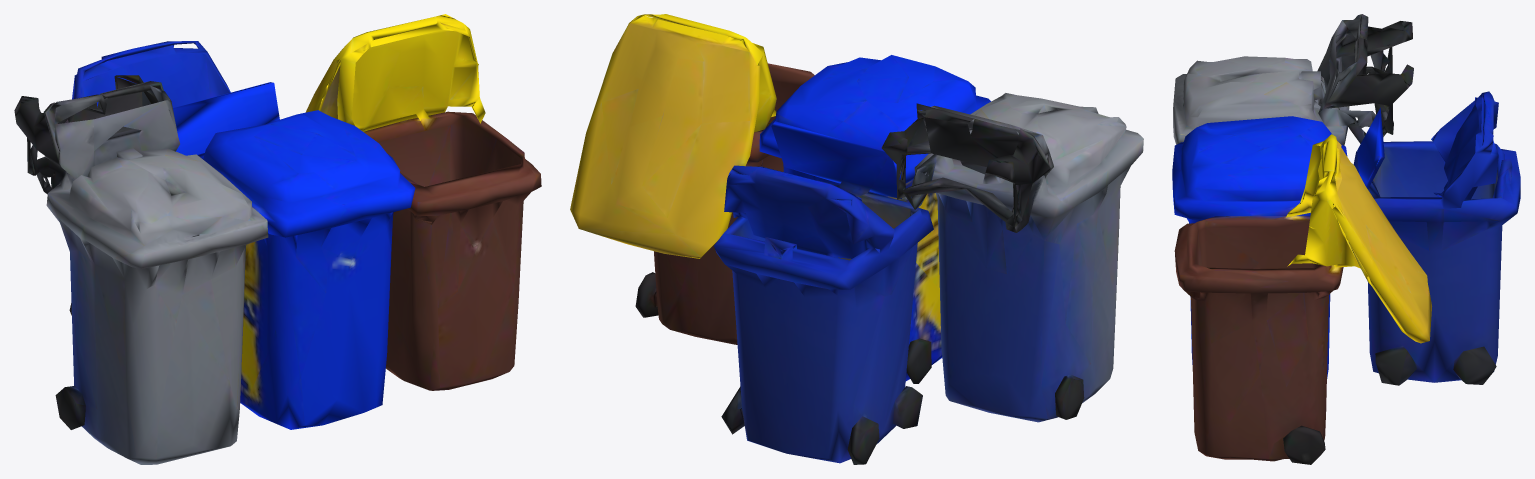
The model's file is street_bins.glb.
3 renders of one model, left to right at view 1: azimuth 30°, elevation 25°; view 2: azimuth 150°, elevation 25°; view 3: azimuth 270°, elevation 25°, orthographic. The views are drawn at different scales.
Visible parts, largest first — view 1: tripo_node_feda8f86-4288-4dc2-93fc-d2b486a5a06d; view 2: tripo_node_feda8f86-4288-4dc2-93fc-d2b486a5a06d; view 3: tripo_node_feda8f86-4288-4dc2-93fc-d2b486a5a06d.
Part boxes in pixels (x1,y1,x2,y2): tripo_node_feda8f86-4288-4dc2-93fc-d2b486a5a06d: (14, 14, 541, 464); tripo_node_feda8f86-4288-4dc2-93fc-d2b486a5a06d: (570, 14, 1143, 464); tripo_node_feda8f86-4288-4dc2-93fc-d2b486a5a06d: (1172, 14, 1520, 464).
Size of the model in its own units: 1.68 by 1.15 by 1.27.
Materials: 1 (1 with a texture image).
